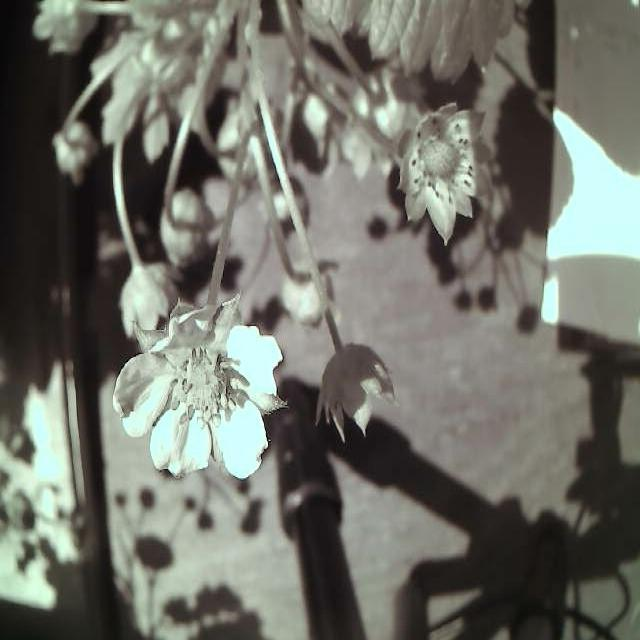flower: (112, 304, 300, 488)
